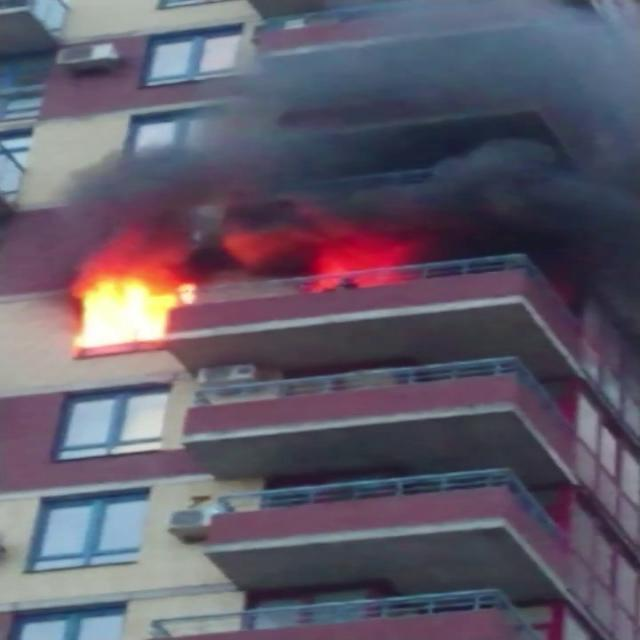Fire: (55, 256, 209, 350)
Smoke: (21, 0, 639, 272)
